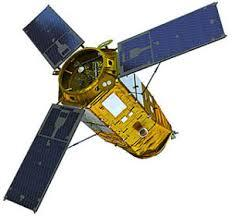antenna: (97, 39, 113, 48)
body: (58, 48, 173, 159)
solar: (3, 102, 85, 213), (115, 1, 228, 79), (22, 4, 86, 70)
thruster: (170, 131, 177, 141)
